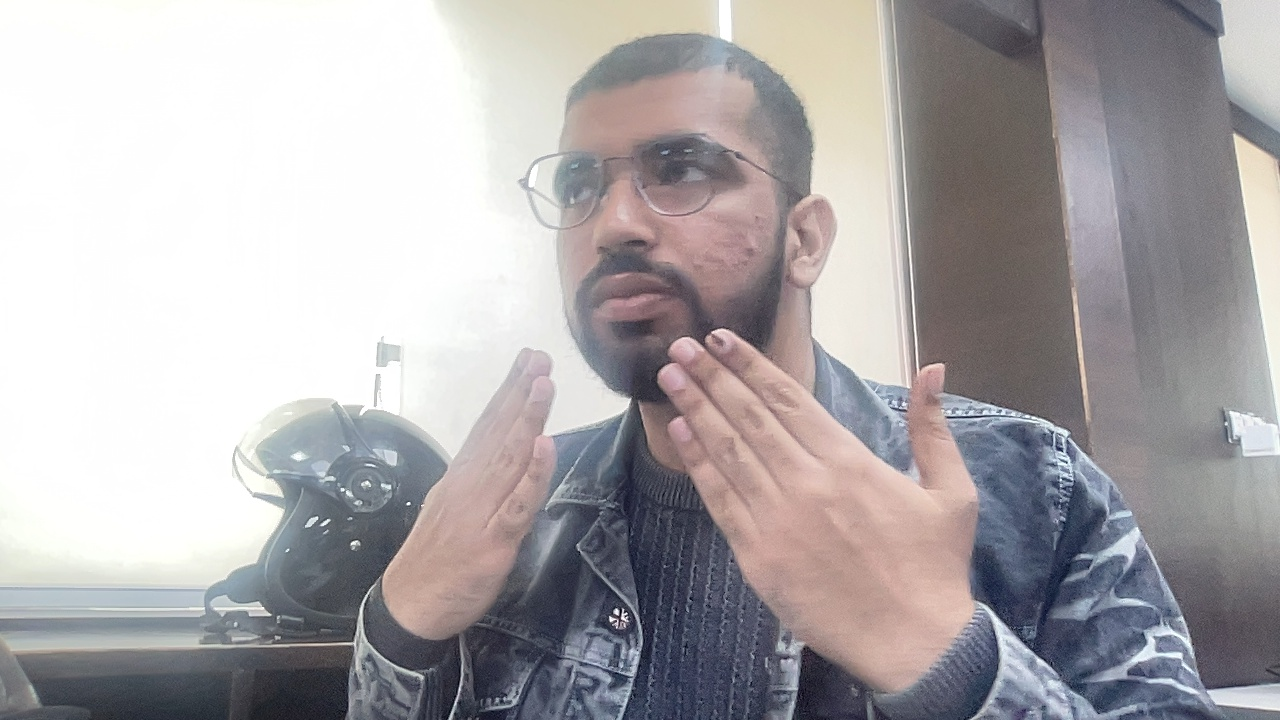Thank You: (283, 347, 1100, 677)
